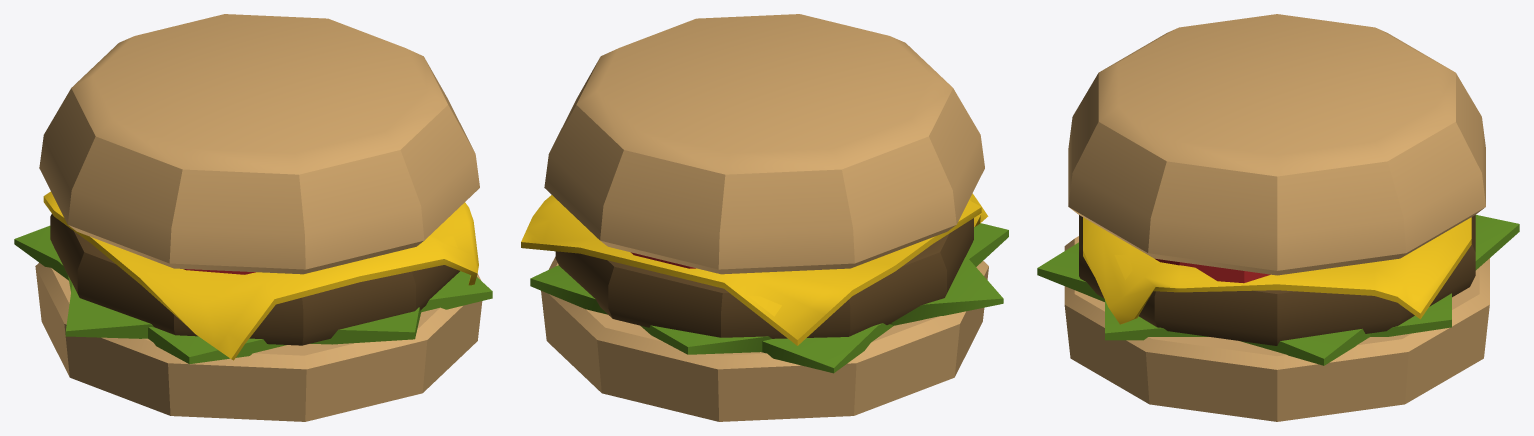
The model's file is BORGER.fbx.
The picture shows the model from 3 angles, left to right: view 1: azimuth 30°, elevation 25°; view 2: azimuth 150°, elevation 25°; view 3: azimuth 270°, elevation 25°; orthographic projection.
Parts seen in each view (by area): view 1: Top_Bun, Bottom_Bun, Cheese, Patty, Lettuce_02, Lettuce_01; view 2: Top_Bun, Bottom_Bun, Patty, Cheese, Lettuce_02, Lettuce_01; view 3: Top_Bun, Bottom_Bun, Cheese, Patty, Lettuce_01, Lettuce_02, Tomato_03.
Boxes of the visible parts, left/top/right/bottom form: Top_Bun: left=39, top=14, right=479, bottom=274; Bottom_Bun: left=35, top=262, right=482, bottom=421; Cheese: left=43, top=191, right=478, bottom=360; Patty: left=50, top=214, right=459, bottom=345; Lettuce_02: left=14, top=225, right=492, bottom=364; Lettuce_01: left=65, top=276, right=421, bottom=344; Top_Bun: left=544, top=14, right=984, bottom=274; Bottom_Bun: left=541, top=256, right=988, bottom=421; Patty: left=555, top=218, right=973, bottom=338; Cheese: left=521, top=193, right=988, bottom=345; Lettuce_02: left=530, top=223, right=1008, bottom=373; Lettuce_01: left=640, top=256, right=1003, bottom=354; Top_Bun: left=1068, top=14, right=1485, bottom=275; Bottom_Bun: left=1064, top=236, right=1489, bottom=421; Cheese: left=1083, top=217, right=1471, bottom=324; Patty: left=1079, top=215, right=1475, bottom=345; Lettuce_01: left=1037, top=215, right=1519, bottom=365; Lettuce_02: left=1105, top=293, right=1451, bottom=340; Tomato_03: left=1155, top=258, right=1270, bottom=283.
Size of the model in its own units: 19.49 by 11.19 by 19.49.
1 material, 1 textured.
